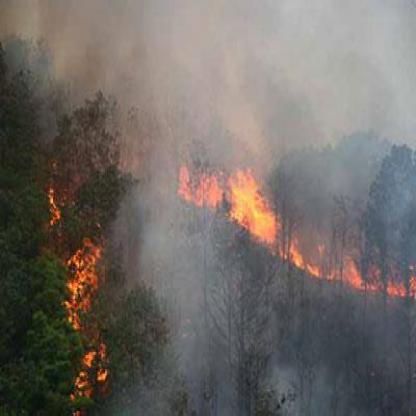fire: (174, 152, 413, 292), (38, 172, 118, 399)
